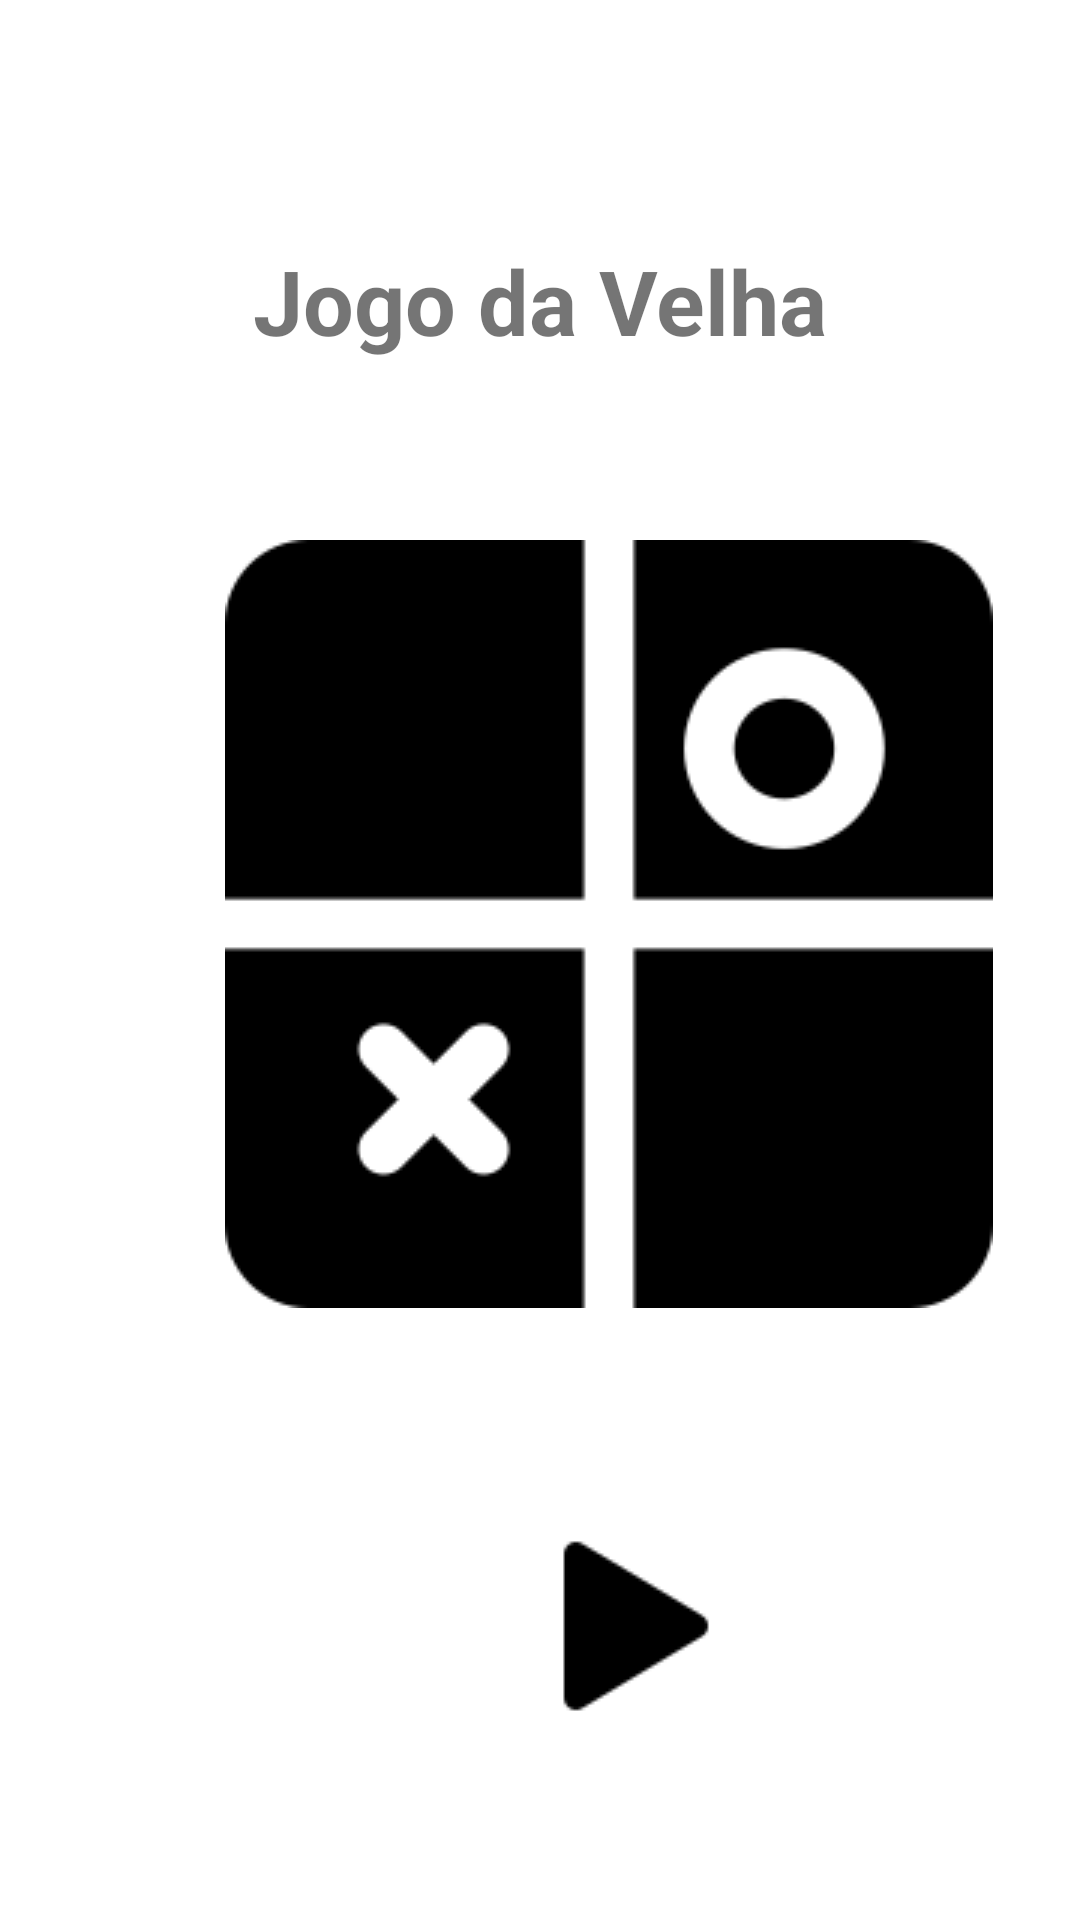

Icons on this 1080x1920 Android screen, each with the point to tap as [x,y]:
play: [636,1626]
